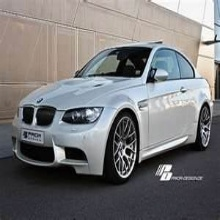no damage: (10, 41, 213, 183)
